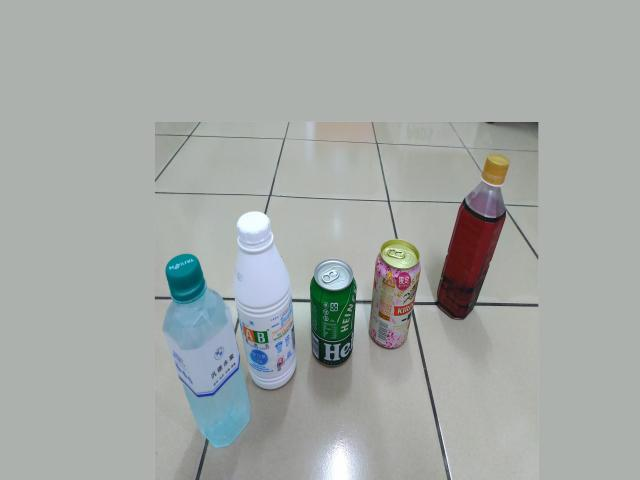Canned_drinks: (368, 236, 421, 350), (308, 257, 358, 368)
bottle: (161, 251, 252, 448), (435, 153, 511, 321), (231, 209, 299, 392)
